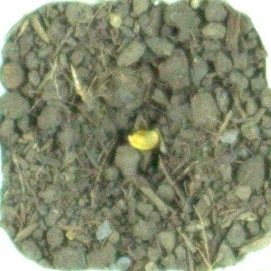chilli seed: (126, 128, 161, 151)
